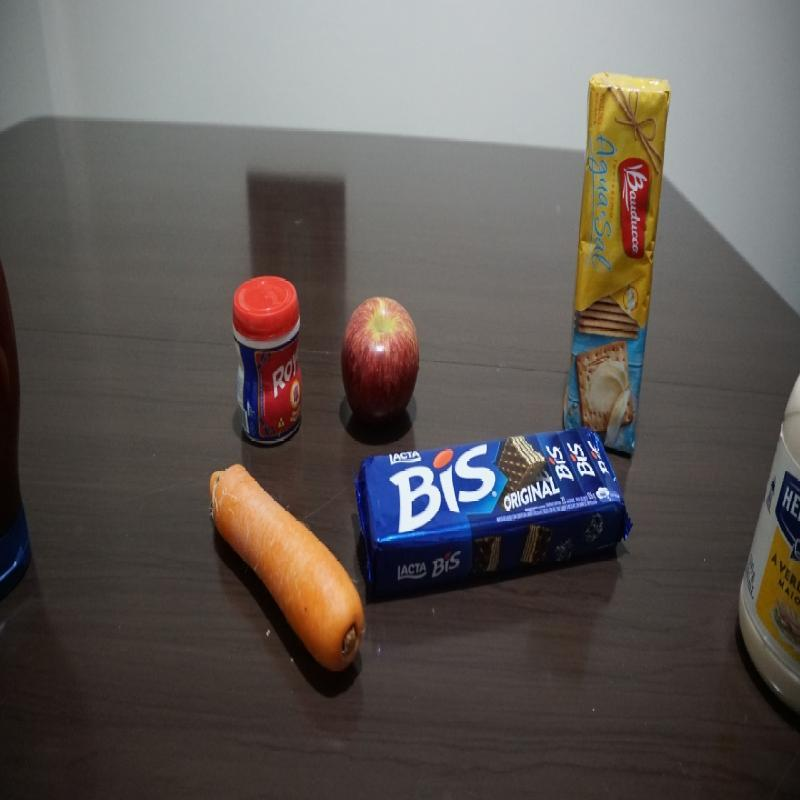Apple: (338, 291, 423, 423)
Carrot: (208, 460, 364, 679)
Cracker: (559, 66, 680, 460)
Ketchup: (0, 249, 33, 608)
Mayonnaise: (732, 342, 800, 726)
Yeast: (230, 273, 304, 448)
